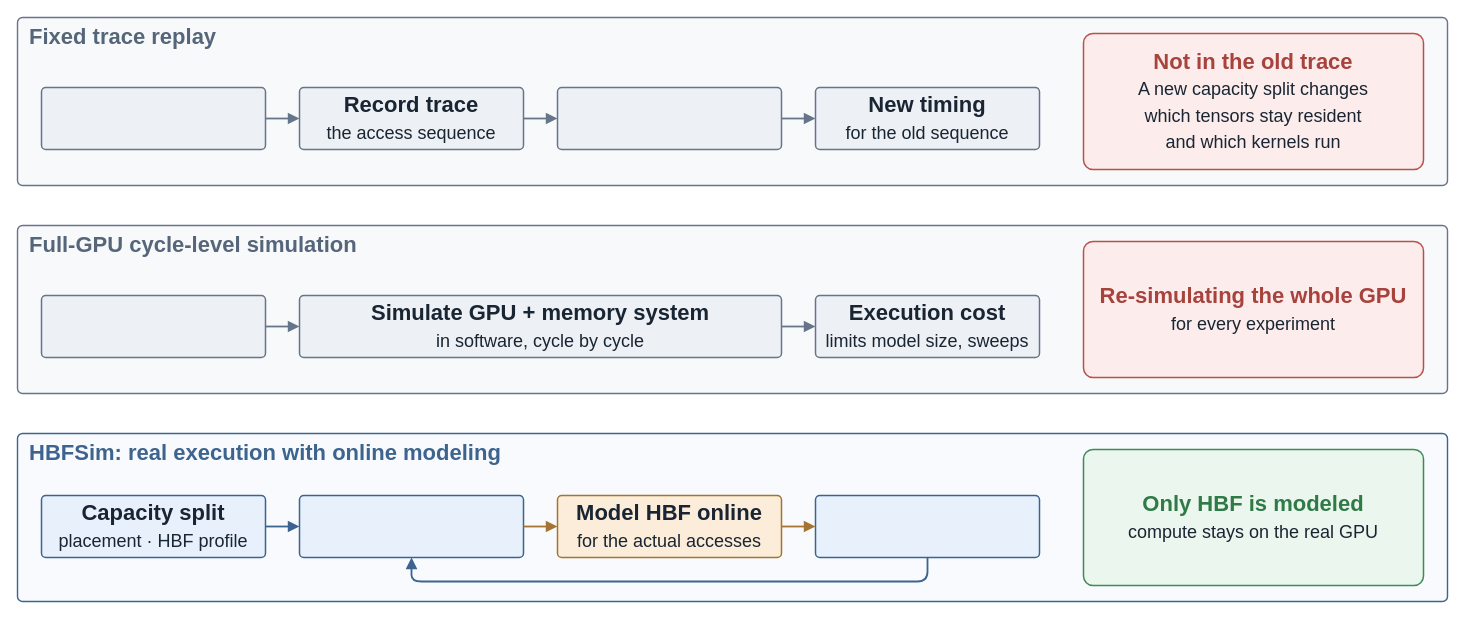
Image size: 1466x620. Some labels were removed from this diagram. The centre of each missing label's shape, as x and y in pixels:
Complete access continue execution: the point at 927,526
Program or trace of GPU instructions: the point at 153,326
Replay offline new media parameters: the point at 669,118
Run workload on a real GPU: the point at 411,526
Run workload original capacity setup: the point at 153,118
